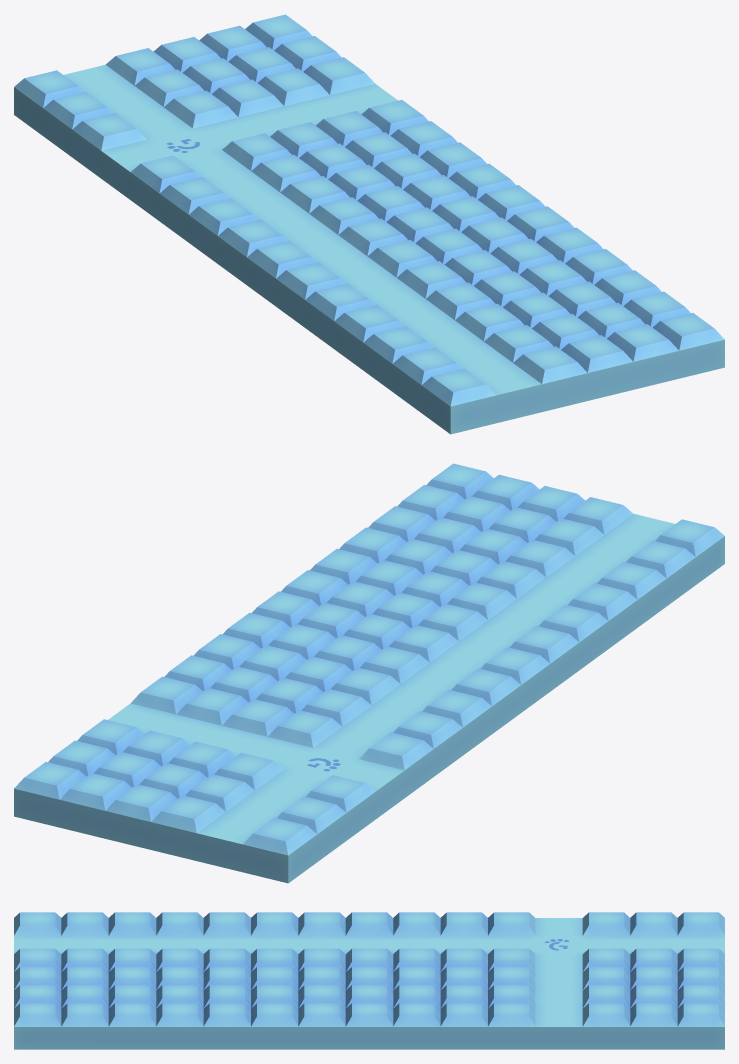
Rendered from keyboard.FBX.
3 views of the same model, one above another, from view 1: azimuth 30°, elevation 25°; view 2: azimuth 150°, elevation 25°; view 3: azimuth 270°, elevation 25° (orthographic). The views are drawn at different scales.
Parts seen in each view (by area): view 1: Box001; view 2: Box001; view 3: Box001.
Part boxes in pixels (box(x1,y1,x2,y2)): Box001: box(14, 14, 724, 434); Box001: box(14, 463, 724, 883); Box001: box(14, 912, 724, 1049).
Size of the model in its own units: 17.01 by 2.24 by 46.88.
